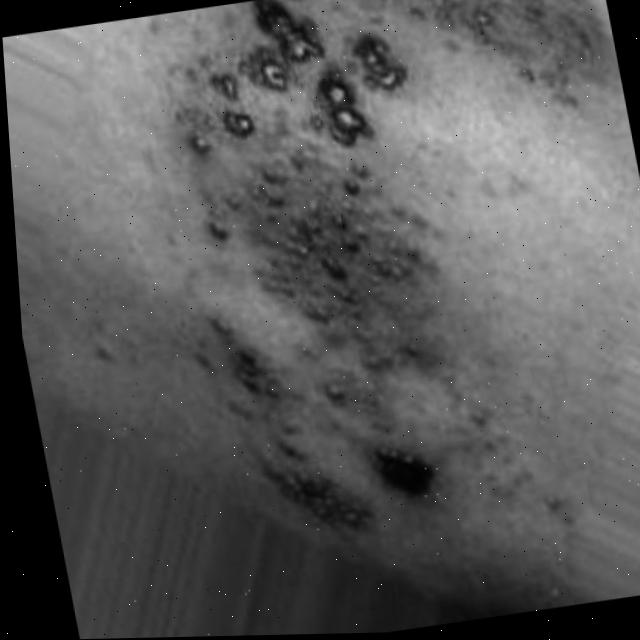Shingles: (137, 0, 640, 631)
